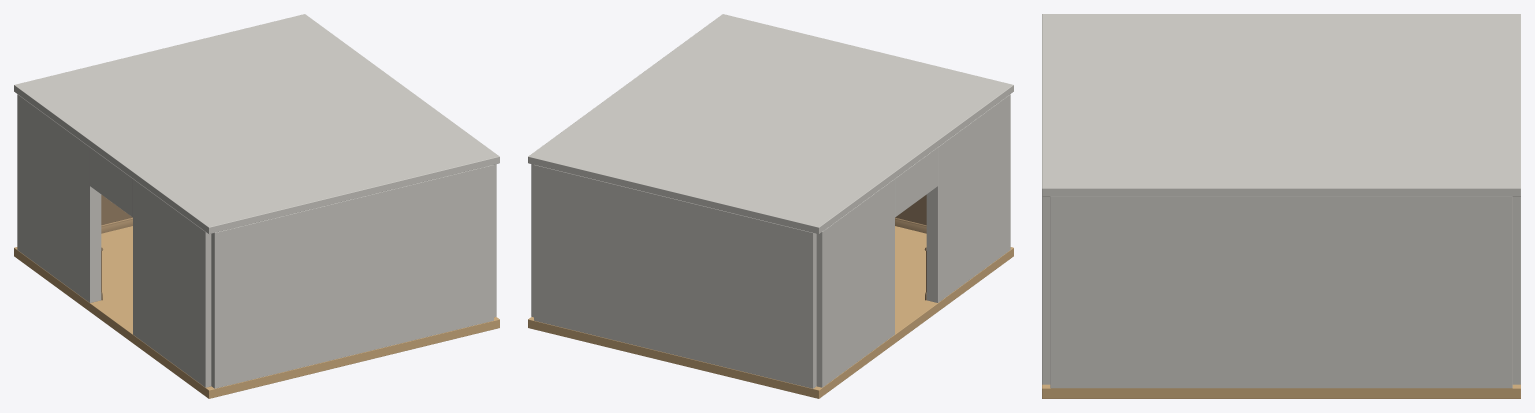
The model's file is room-office.90429ee2.glb.
3 renders of one model, left to right at view 1: azimuth 30°, elevation 25°; view 2: azimuth 150°, elevation 25°; view 3: azimuth 270°, elevation 25°, orthographic. The views are drawn at different scales.
Visible parts, largest first — view 1: office__structure, office__floor, office__panelling; view 2: office__structure, office__floor, office__panelling; view 3: office__structure, office__floor.
Boxes of the visible parts, left/top/right/bottom form: office__structure: left=14, top=14, right=499, bottom=388; office__floor: left=14, top=226, right=499, bottom=398; office__panelling: left=101, top=195, right=132, bottom=292; office__structure: left=528, top=14, right=1013, bottom=388; office__floor: left=528, top=226, right=1013, bottom=398; office__panelling: left=895, top=195, right=926, bottom=292; office__structure: left=1042, top=14, right=1520, bottom=388; office__floor: left=1042, top=384, right=1520, bottom=398.
Bounding box in the file's own units: 6.25 × 3.52 × 7.25.
